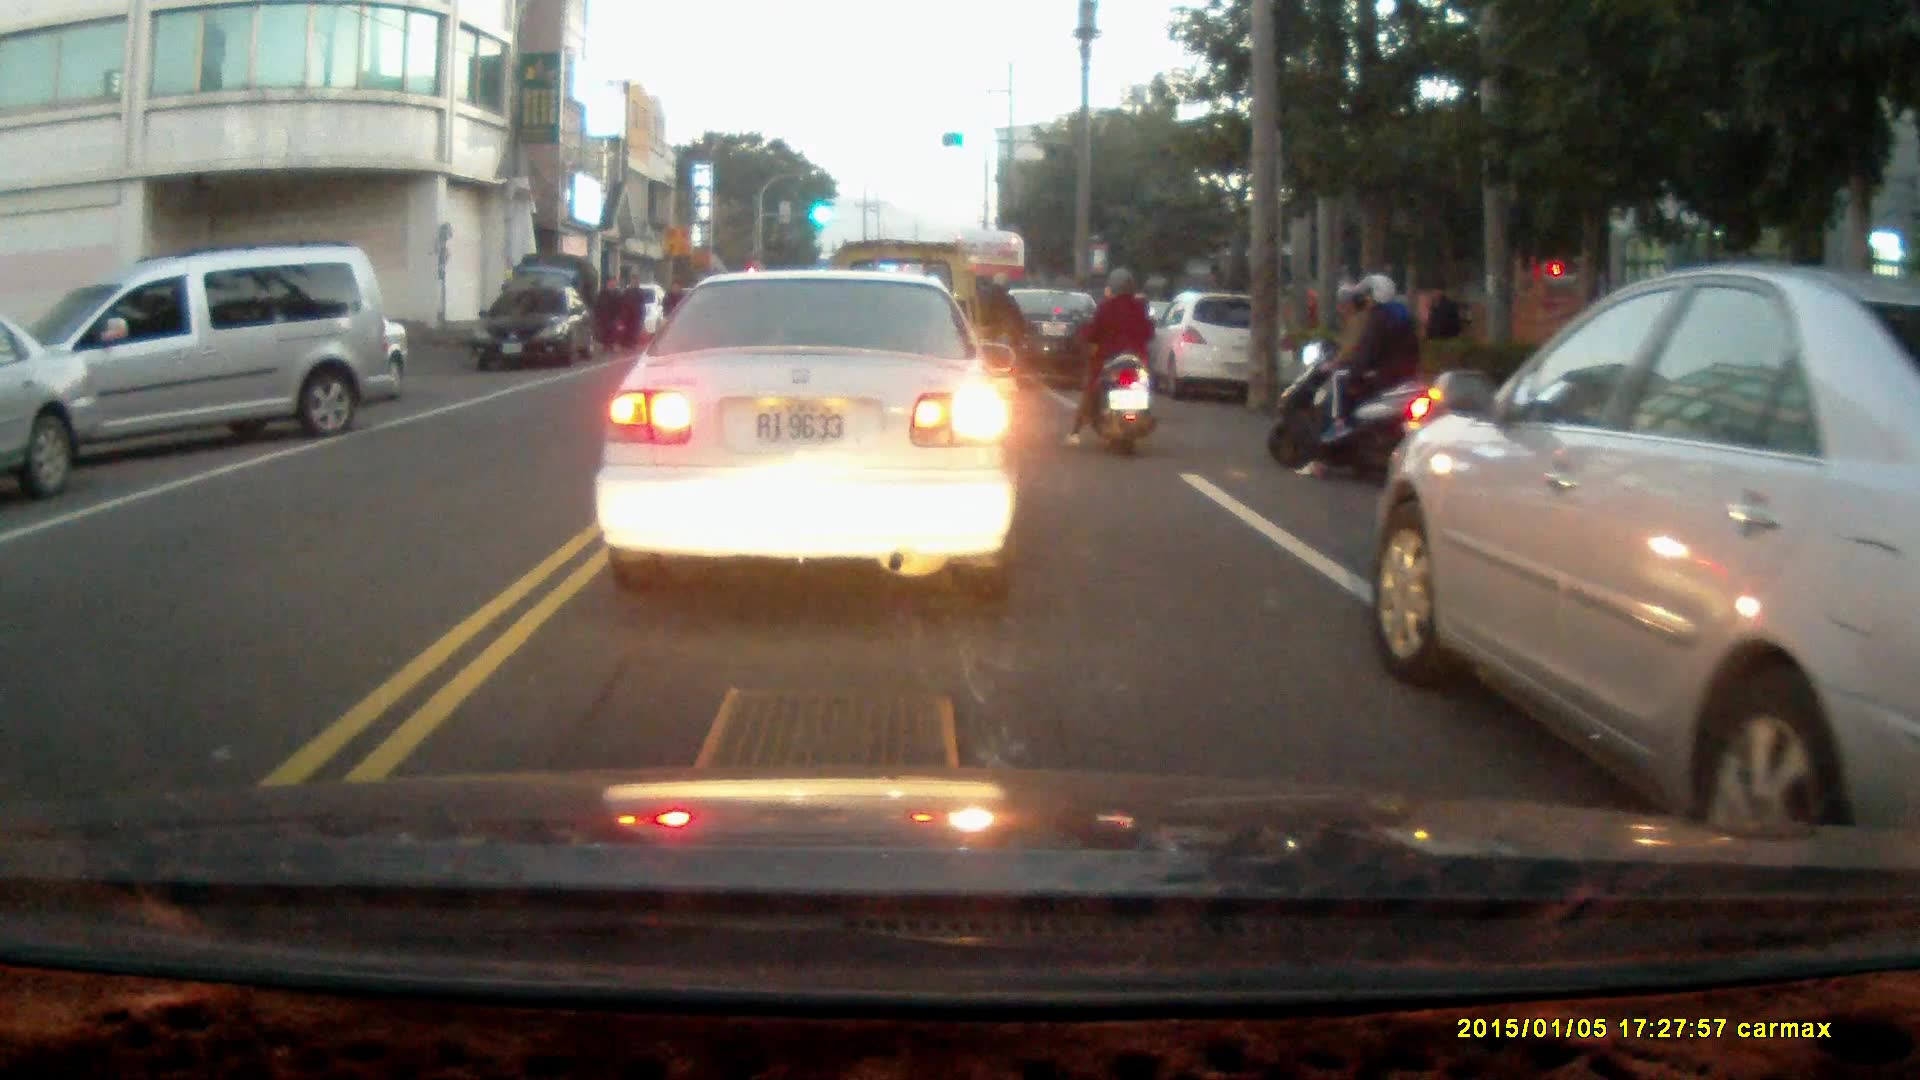pedestrian: (1421, 277, 1461, 371), (595, 273, 625, 355), (617, 273, 644, 353), (658, 277, 686, 347)
rider: (1266, 270, 1432, 481), (1061, 263, 1157, 453), (970, 268, 1029, 387)
vehicle: (1375, 260, 1914, 847), (603, 268, 1025, 600), (10, 246, 389, 468), (1, 314, 101, 503), (1146, 293, 1287, 400), (977, 286, 1116, 391), (481, 280, 599, 370)
